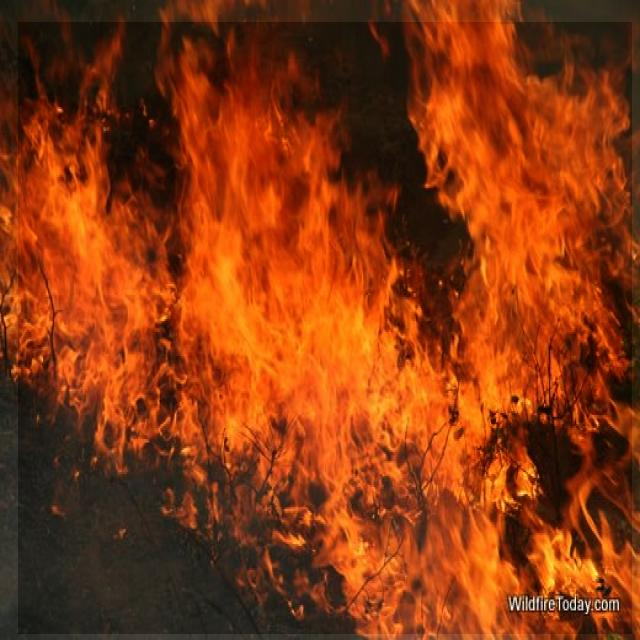Fire: (18, 22, 632, 634)
